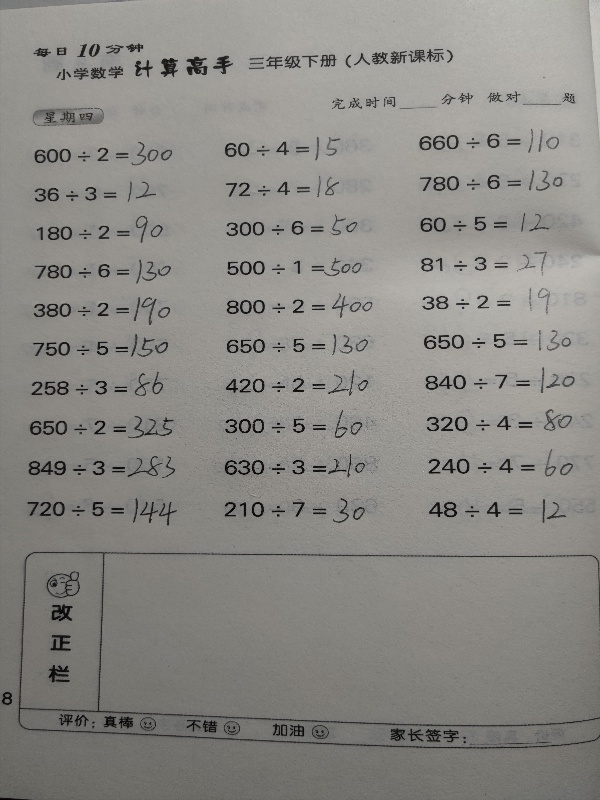equation: (424, 489, 574, 528), (221, 406, 377, 442), (425, 445, 577, 481), (29, 293, 174, 329), (23, 491, 180, 524), (222, 366, 373, 400), (422, 365, 579, 397), (223, 290, 377, 322), (221, 495, 369, 528), (416, 204, 556, 238), (26, 412, 178, 443), (31, 138, 177, 170), (34, 212, 167, 247), (24, 450, 178, 480), (221, 450, 369, 481), (416, 125, 564, 156), (424, 406, 576, 436), (27, 372, 167, 404), (417, 247, 560, 278), (420, 327, 575, 355), (31, 257, 175, 287), (416, 167, 567, 195), (223, 331, 373, 359), (28, 334, 173, 362), (417, 287, 562, 315), (222, 211, 361, 240), (224, 254, 366, 281), (221, 133, 344, 164), (223, 172, 343, 201), (31, 180, 159, 207)
